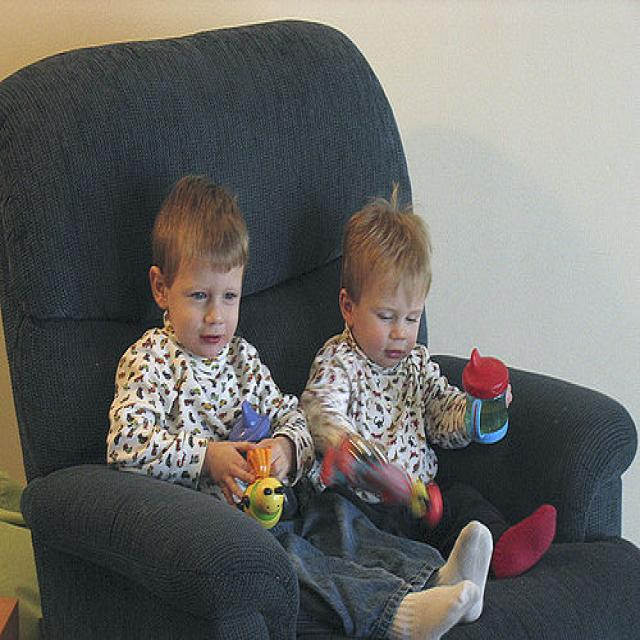chair: (1, 18, 640, 639)
person: (105, 177, 494, 639), (299, 201, 558, 580)
